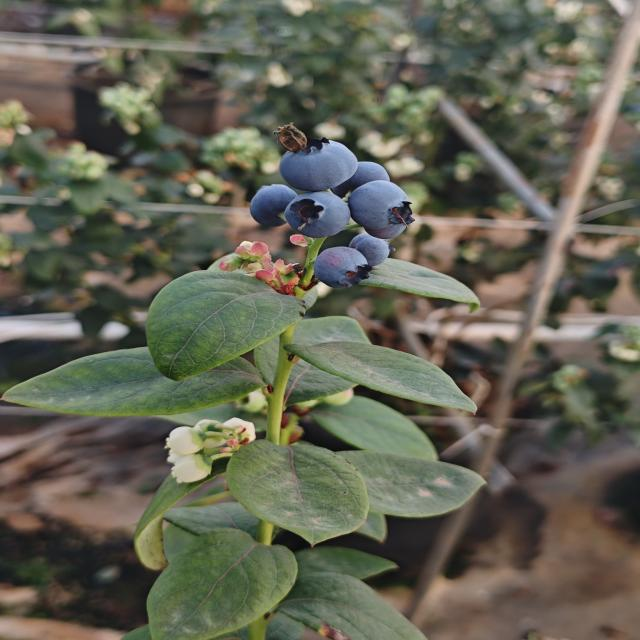ripe: (276, 136, 360, 193), (296, 238, 376, 291), (354, 179, 422, 241), (276, 197, 358, 235), (345, 224, 404, 270), (331, 152, 393, 195), (239, 174, 289, 222)
